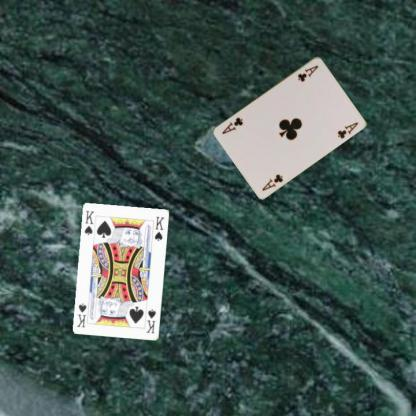Ac: (260, 171, 284, 192), (295, 62, 320, 82)
Ks: (82, 208, 95, 236), (144, 307, 157, 334)
